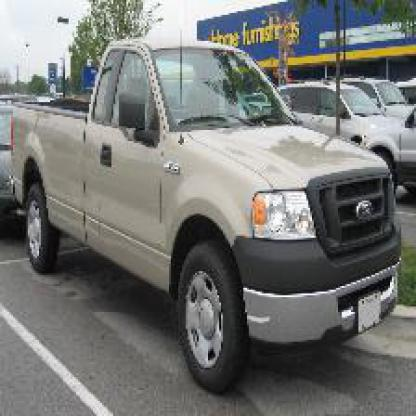not_emergency: (15, 26, 390, 370)
